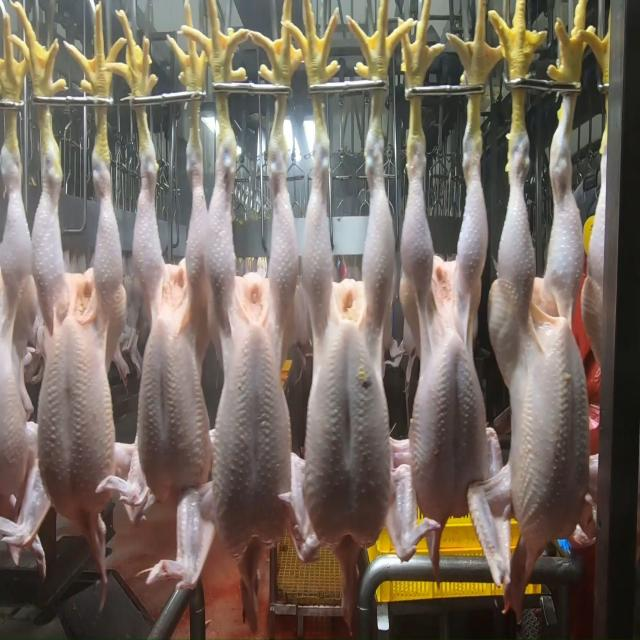chicken: (302, 175, 400, 544), (199, 172, 301, 524), (29, 166, 131, 516), (496, 178, 585, 550), (400, 179, 491, 528), (128, 168, 210, 508), (0, 155, 34, 503)
